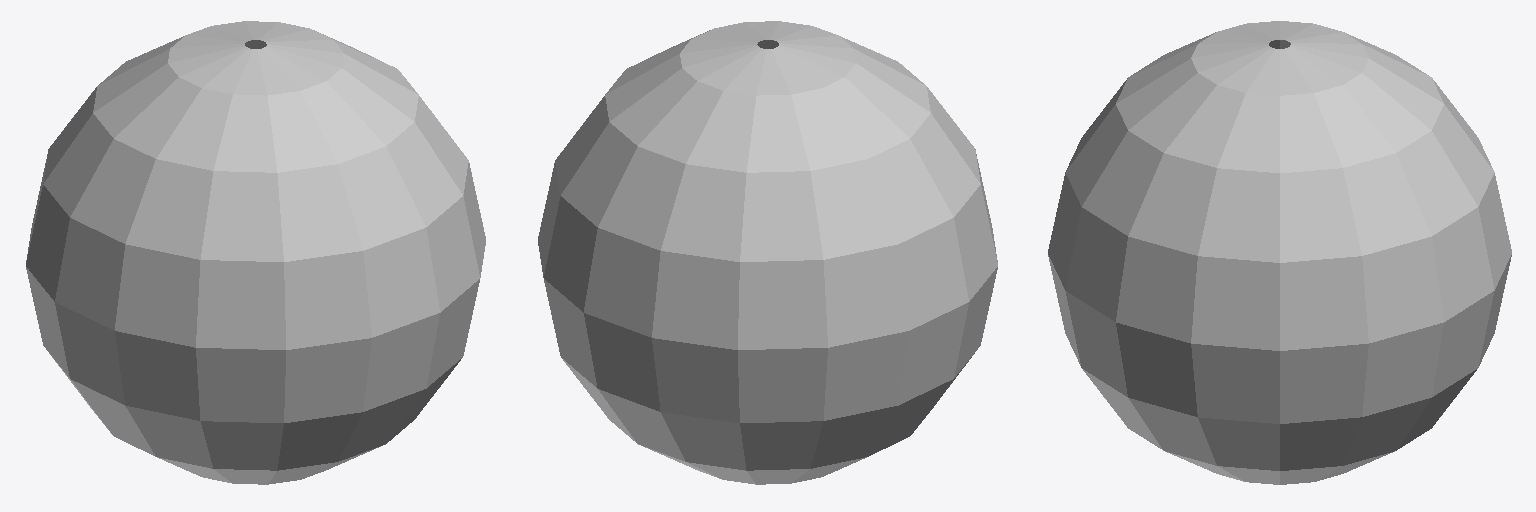
The model's file is BadSphere.obj.
3 renders of one model, left to right at view 1: azimuth 30°, elevation 25°; view 2: azimuth 150°, elevation 25°; view 3: azimuth 270°, elevation 25°, orthographic.
Parts seen in each view (by area): view 1: Sphere; view 2: Sphere; view 3: Sphere.
Part boxes in pixels (left/top/right/bottom): Sphere: left=26, top=21, right=485, bottom=484; Sphere: left=538, top=21, right=997, bottom=484; Sphere: left=1048, top=21, right=1511, bottom=484.
Size of the model in its own units: 2 by 2.01 by 2.